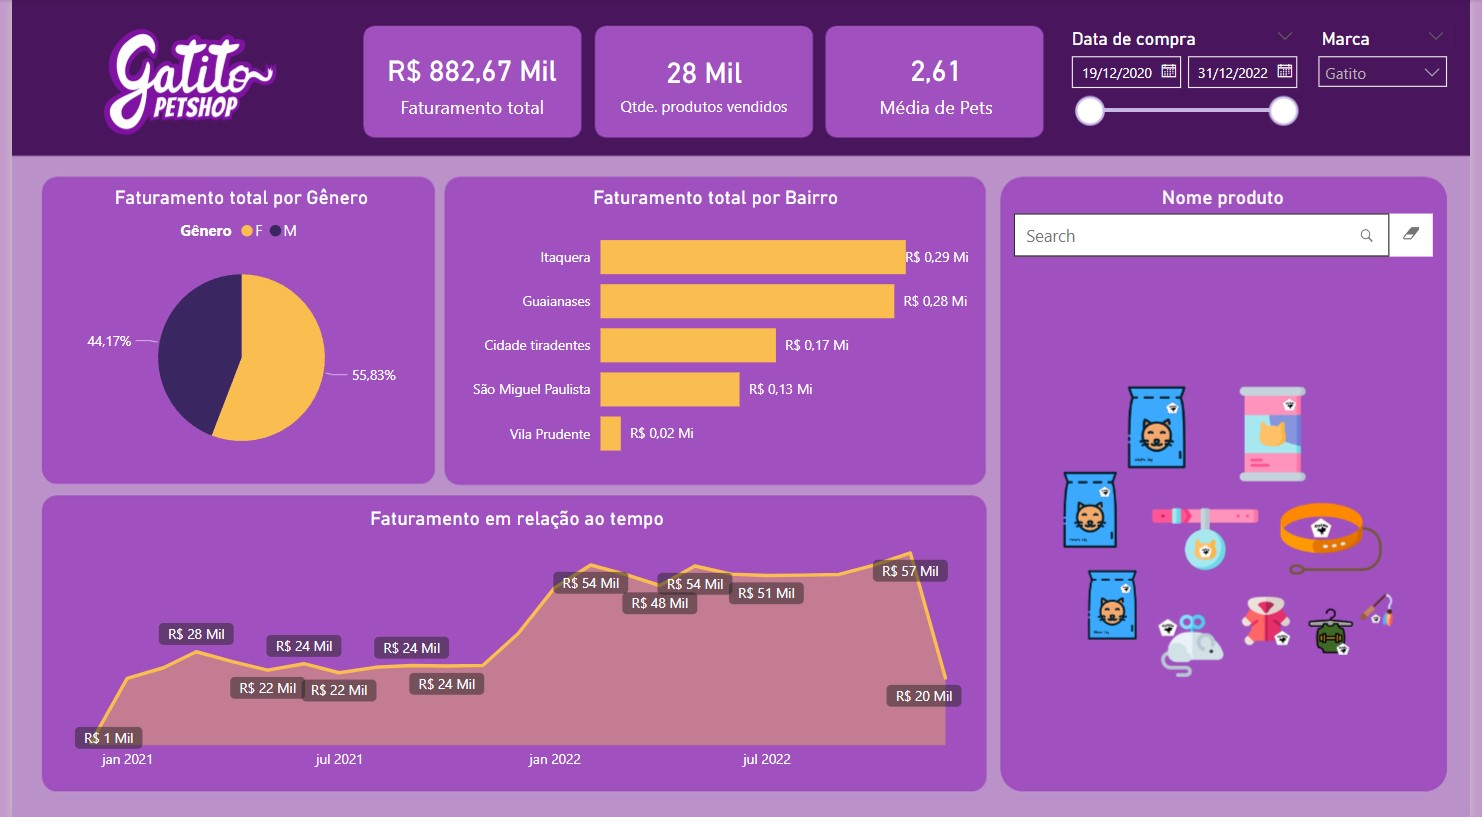

Layout of this report page (visuals, bound fields, positions):
{"tool":"powerbi","page":{"name":"Página 1","canvas":[1280,720],"ordinal":0},"visuals":[{"type":"card","fields":{"Values":["Vendas.Faturamento total"]},"box":[318.7,31.6,170.3,82.5],"z":0},{"type":"card","fields":{"Values":["Avg(Clientes.Pets)"]},"box":[725.3,31.6,172.1,82.5],"z":1000},{"type":"card","fields":{"Values":["Sum(Vendas.Quantidade)"]},"box":[521.3,31.1,172.2,83.6],"z":2000},{"type":"pieChart","fields":{"Category":["Clientes.Gênero"],"Y":["Vendas.Faturamento total"]},"box":[41.3,164.2,320.5,253.8],"z":3000},{"type":"clusteredBarChart","fields":{"Category":["Clientes.Bairro"],"Y":["Vendas.Faturamento total"]},"box":[391,164.4,454.2,253.9],"z":4000},{"type":"areaChart","title":"Faturamento em relação ao tempo","fields":{"Category":["Vendas.Data de compra.Variation.Hierarquia de datas.Ano","Vendas.Data de compra.Variation.Hierarquia de datas.Trimestre","Vendas.Data de compra.Variation.Hierarquia de datas.Mês","Vendas.Data de compra.Variation.Hierarquia de datas.Dia"],"Y":["Vendas.Faturamento total"]},"box":[40.9,446.4,804.4,239.3],"z":5000},{"type":"ImageGrid_FC5183B9_926C_45E0_B5F7_0CE9EAF1DA9B","fields":{"ImageURL":["Produtos.Url img"]},"box":[881.2,247.1,357,438.7],"z":6000},{"type":"slicer","fields":{"Values":["Produtos.Marca"]},"box":[1137.1,20.2,132.6,94],"z":7000},{"type":"slicer","fields":{"Values":["Vendas.Data de compra"]},"box":[917.6,20.2,219.5,173],"z":8000},{"type":"textFilter25A4896A83E0487089E2B90C9AE57C8A","fields":{"field":["Produtos.Nome produto"]},"box":[874.5,164.2,377.6,72.9],"z":9000}]}

Visuals, with their boxes in screenshot pixels (x1, y1, x2, y2), scaled from the page's 1280x720 canvas onto the 1482x817 screenshot:
card - Vendas.Faturamento total: box(369, 36, 566, 129)
card - Avg(Clientes.Pets): box(840, 36, 1039, 129)
card - Sum(Vendas.Quantidade): box(604, 35, 803, 130)
pieChart - Clientes.Gênero x Vendas.Faturamento total: box(48, 186, 419, 474)
clusteredBarChart - Clientes.Bairro x Vendas.Faturamento total: box(453, 187, 979, 475)
"Faturamento em relação ao tempo" areaChart: box(47, 507, 979, 778)
ImageGrid_FC5183B9_926C_45E0_B5F7_0CE9EAF1DA9B - Produtos.Url img: box(1020, 280, 1434, 778)
slicer - Produtos.Marca: box(1317, 23, 1470, 130)
slicer - Vendas.Data de compra: box(1062, 23, 1317, 219)
textFilter25A4896A83E0487089E2B90C9AE57C8A - Produtos.Nome produto: box(1013, 186, 1450, 269)
